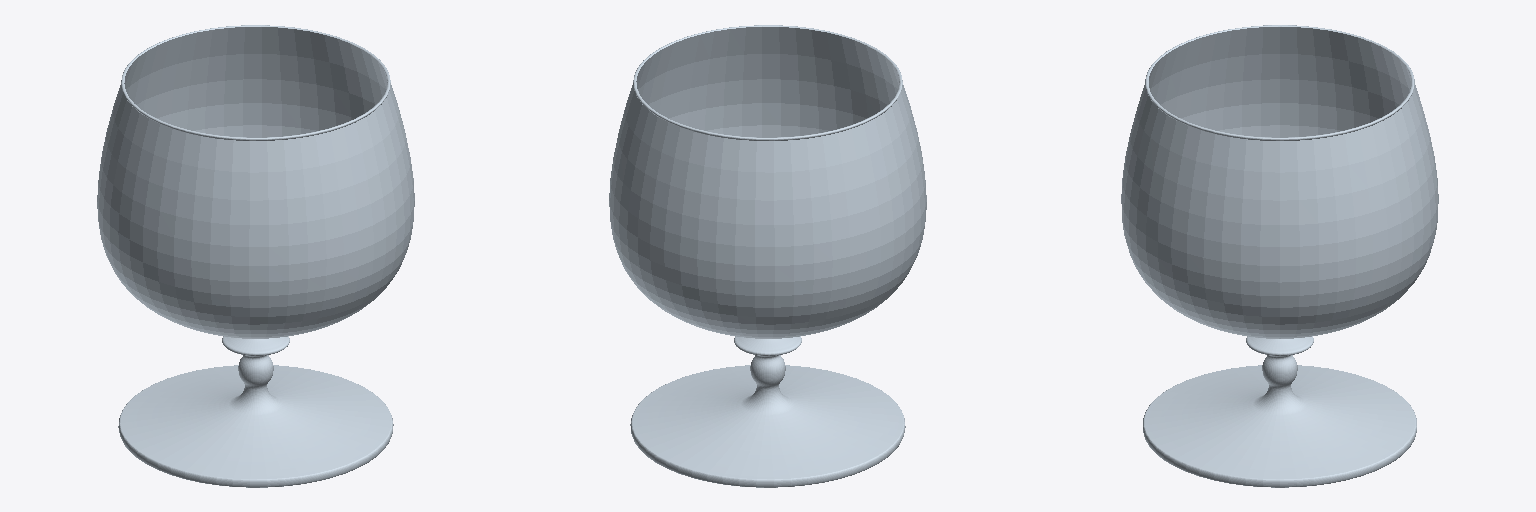
The model's file is brandy.obj.
3 views of the same model, side by side, from view 1: azimuth 30°, elevation 25°; view 2: azimuth 150°, elevation 25°; view 3: azimuth 270°, elevation 25° (orthographic).
Parts seen in each view (by area): view 1: Mesh1 Line001_1 skpJ5G0Fe1 Model; view 2: Mesh1 Line001_1 skpJ5G0Fe1 Model; view 3: Mesh1 Line001_1 skpJ5G0Fe1 Model.
Part boxes in pixels (x1,y1,x2,y2): Mesh1 Line001_1 skpJ5G0Fe1 Model: (97,25,414,487); Mesh1 Line001_1 skpJ5G0Fe1 Model: (609,25,926,487); Mesh1 Line001_1 skpJ5G0Fe1 Model: (1121,25,1438,487).
Size of the model in its own units: 4 by 4.84 by 3.99.